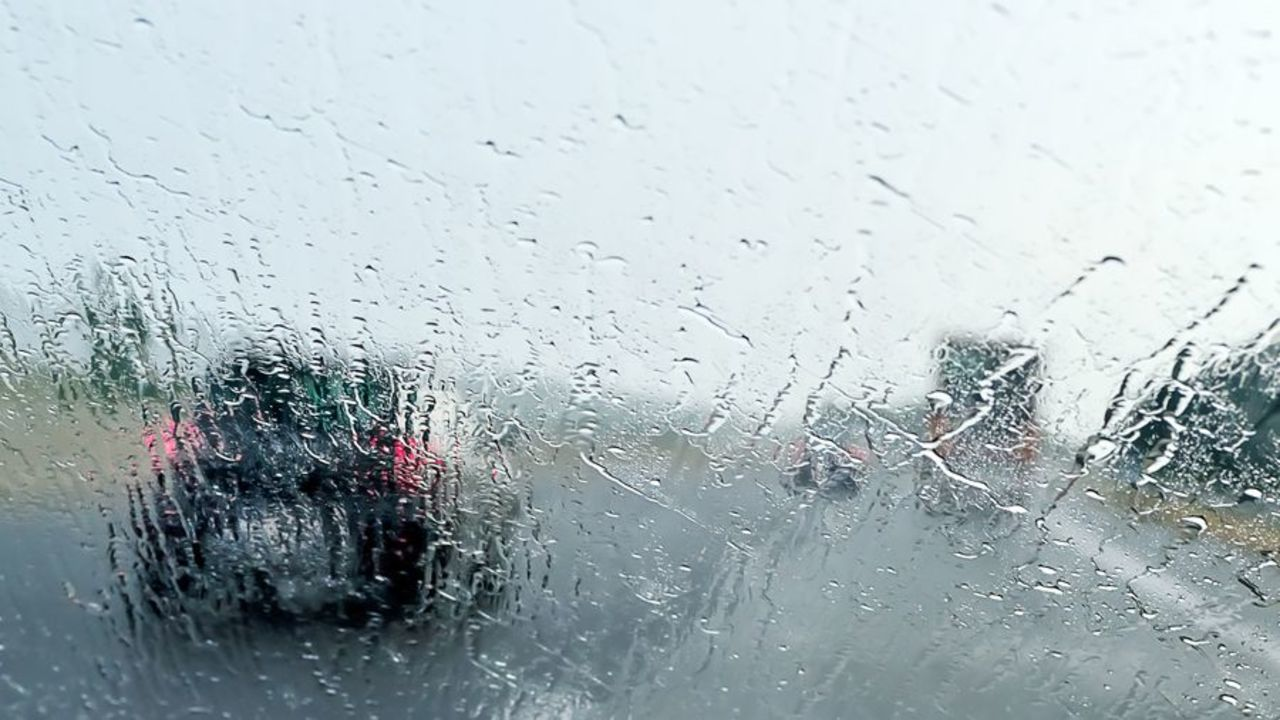car: (140, 346, 526, 617), (786, 424, 873, 496)
truck: (925, 330, 1043, 523)
